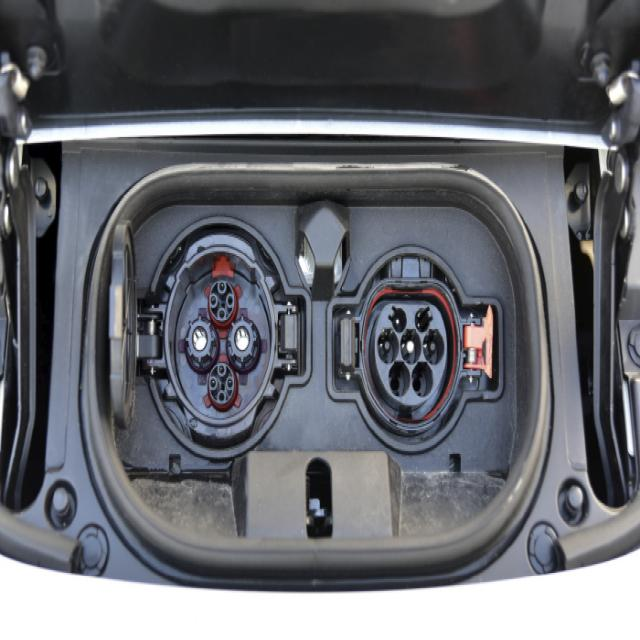CHAdeMO: (154, 235, 295, 442)
